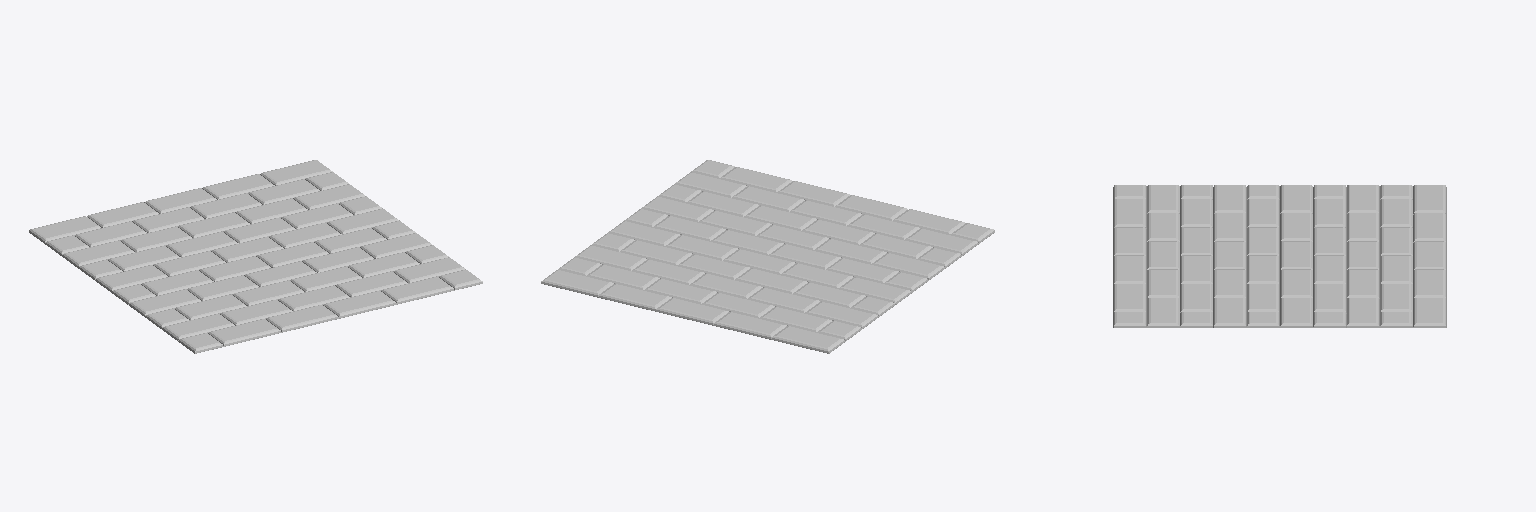
Rendered from hp_wall_template.obj.
3 renders of one model, left to right at view 1: azimuth 30°, elevation 25°; view 2: azimuth 150°, elevation 25°; view 3: azimuth 270°, elevation 25°, orthographic.
Parts seen in each view (by area): view 1: Plane; view 2: Plane; view 3: Plane.
Part boxes in pixels (left/top/right/bottom): Plane: left=29, top=160, right=482, bottom=353; Plane: left=541, top=160, right=994, bottom=353; Plane: left=1113, top=185, right=1446, bottom=327.
Size of the model in its own units: 4 by 0.05 by 4.